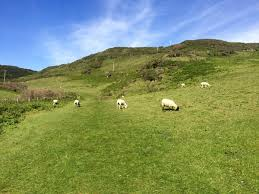sheep: (160, 97, 180, 111), (116, 96, 127, 110), (199, 81, 213, 91), (51, 98, 61, 108), (72, 99, 80, 107), (180, 82, 187, 91)
